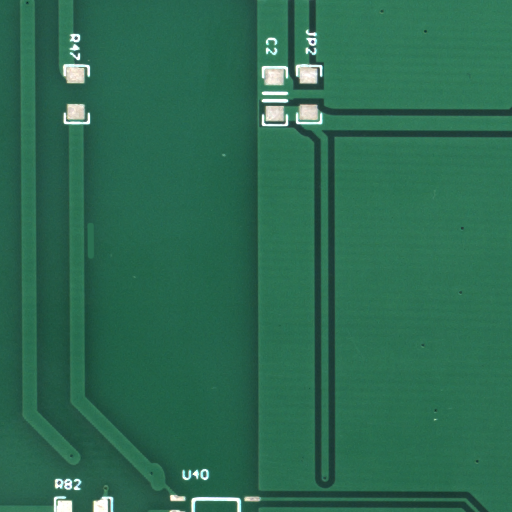Spurious_copper: (90, 240, 99, 279)
